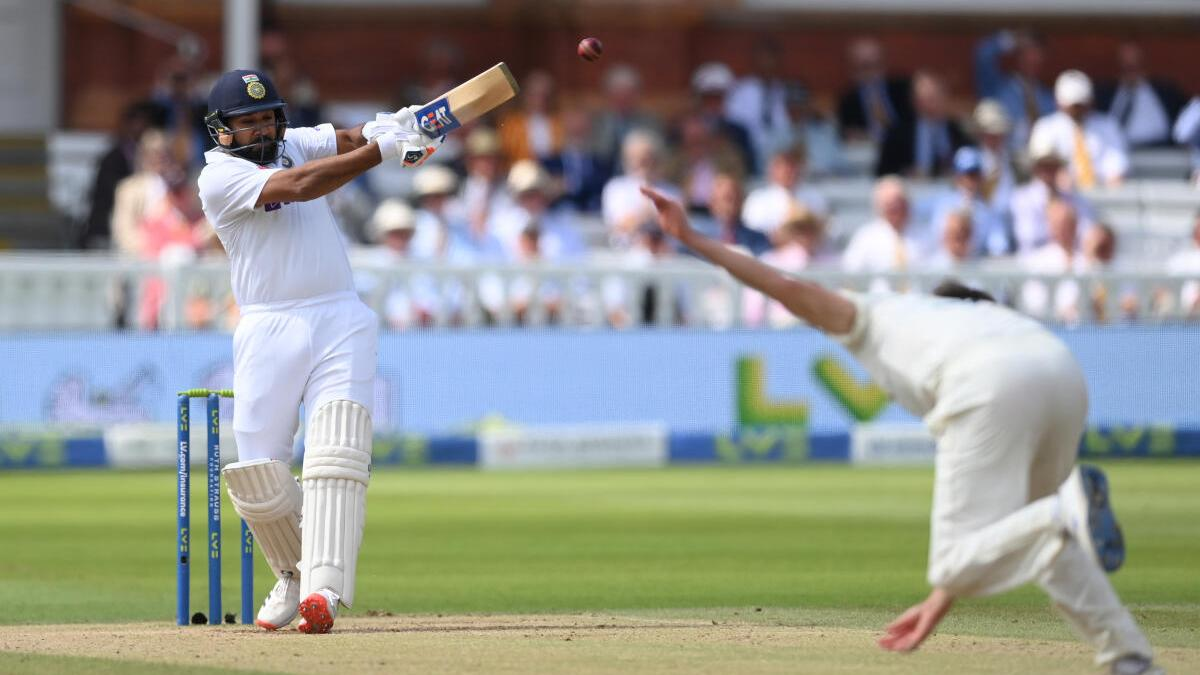Pullshot: (135, 0, 642, 674)
